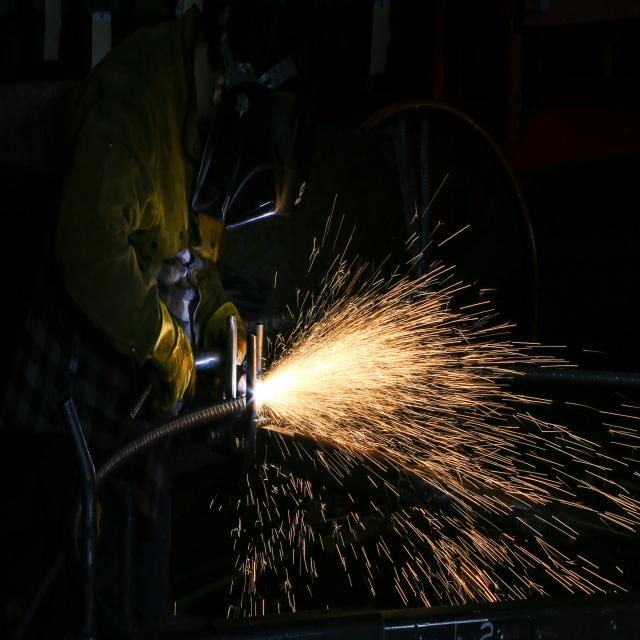with_helmet: (162, 0, 330, 270)
